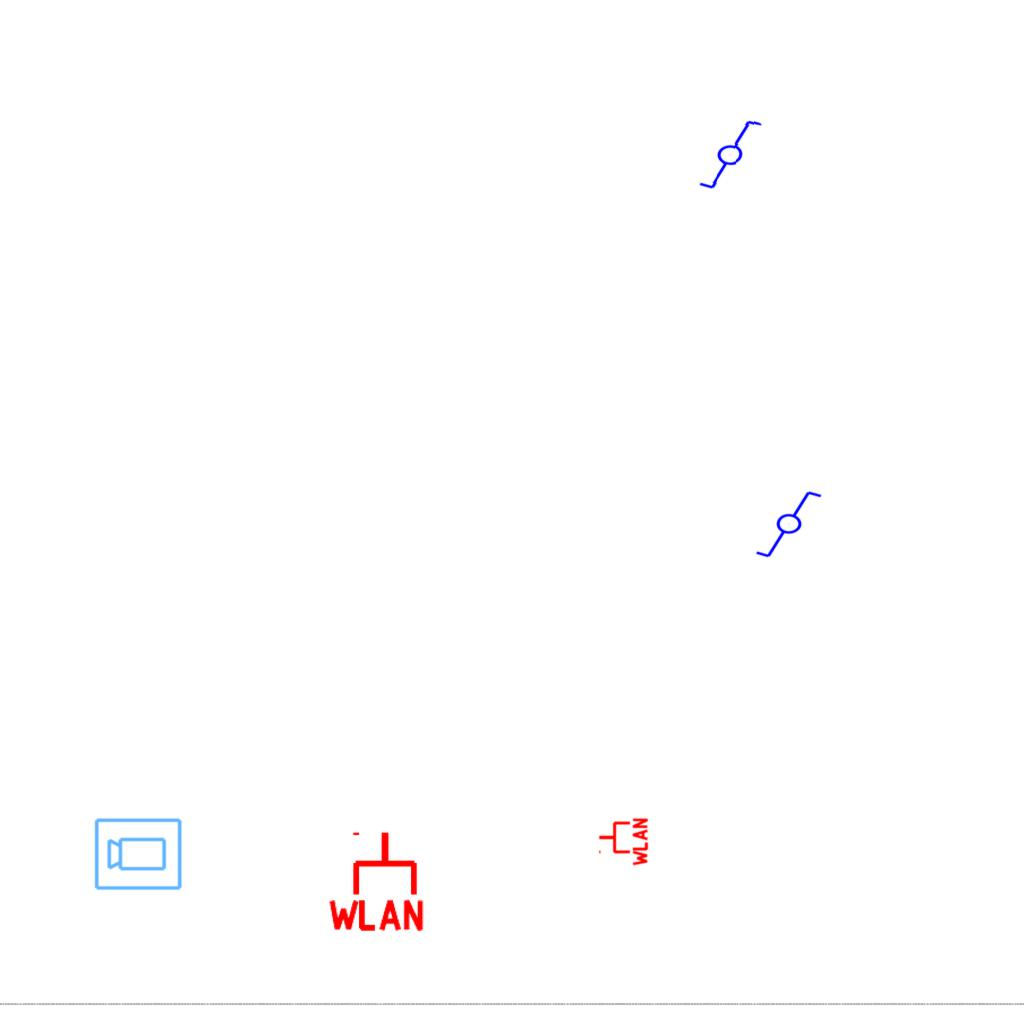KFO_Kamera_mit_Festobjektiv: (93, 815, 184, 892)
WLAN: (324, 828, 428, 933), (597, 816, 649, 868)
Wechselschalter: (685, 116, 767, 192), (754, 489, 832, 561)
